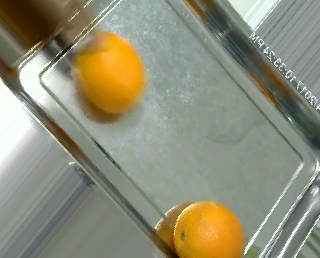Orange: (76, 31, 145, 115), (172, 200, 245, 258)
